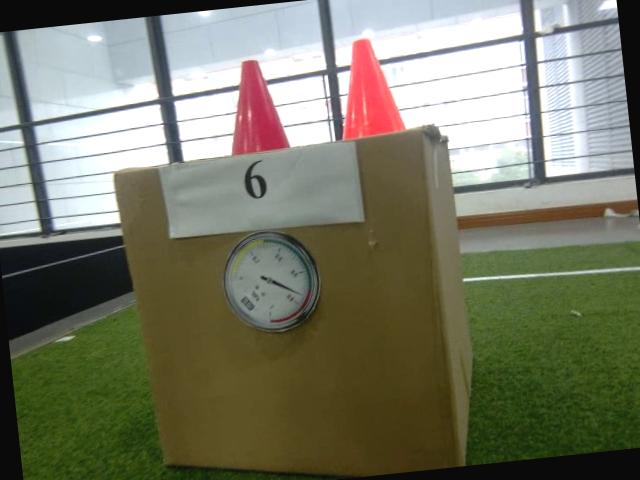6: (239, 156, 271, 203)
Dashboard: (217, 225, 326, 338)
orange_barrel: (330, 34, 408, 140)
red_barrel: (215, 56, 288, 158)
ssi: (240, 294, 254, 313)
